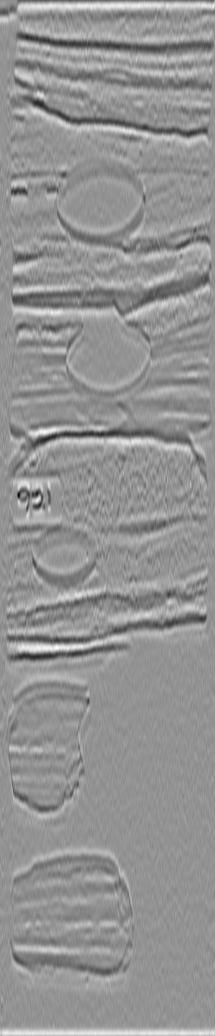hplug: (26, 520, 101, 590)
scal: (59, 313, 163, 408), (52, 151, 148, 252)
vplug: (105, 449, 178, 645)
